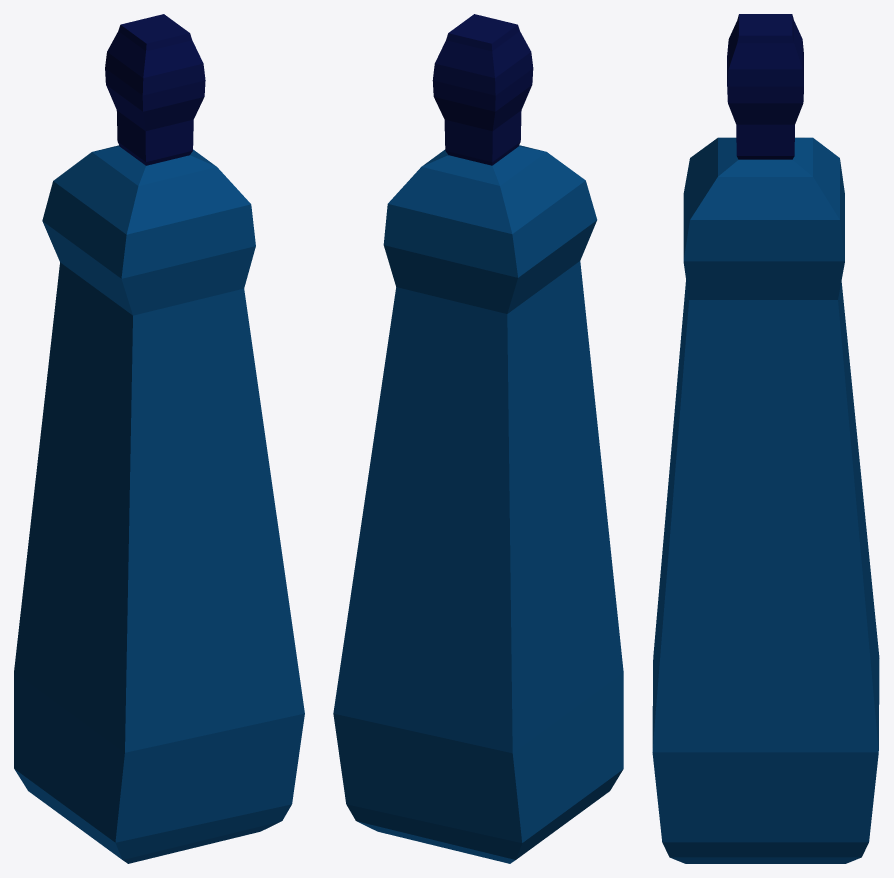
The model's file is Bottle.fbx.
3 renders of one model, left to right at view 1: azimuth 30°, elevation 25°; view 2: azimuth 150°, elevation 25°; view 3: azimuth 270°, elevation 25°, orthographic. The views are drawn at different scales.
Visible parts, largest first — view 1: Cube; view 2: Cube; view 3: Cube.
Boxes of the visible parts, <box> form: Cube: <box>14,14,304,863</box>; Cube: <box>333,14,623,863</box>; Cube: <box>652,14,879,863</box>.
Bounding box in the file's own units: 15.29 × 63 × 15.98.
